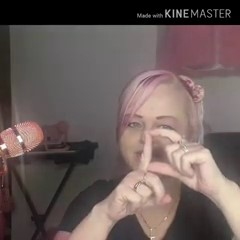D: (107, 120, 215, 227)
